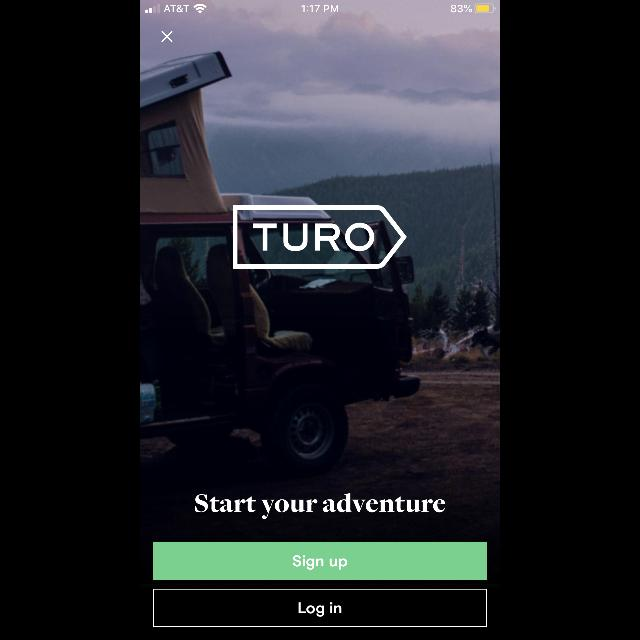backgroundimage: (140, 1, 500, 640)
icon: (162, 32, 172, 42)
image: (233, 206, 407, 268)
text: (195, 493, 445, 519)
textbutton: (154, 589, 486, 627), (154, 542, 486, 580)
uppertaskbar: (140, 0, 500, 14)
